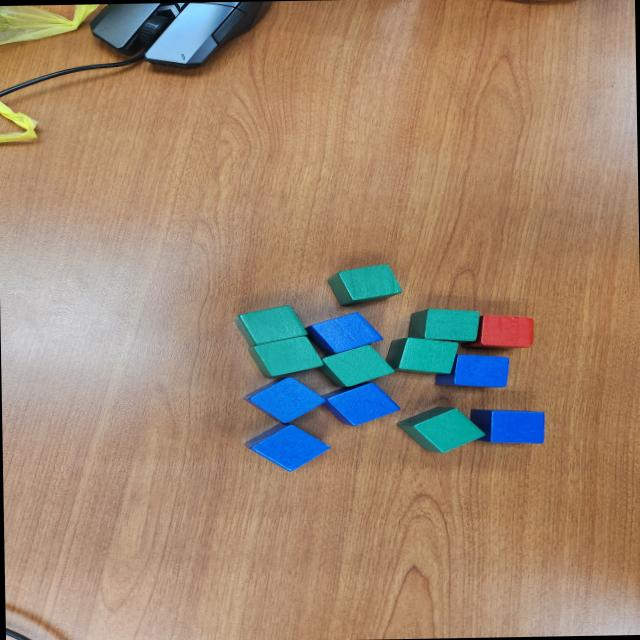blue: (244, 421, 331, 472), (242, 376, 328, 424), (319, 381, 402, 427), (304, 310, 384, 356), (469, 408, 545, 446), (433, 353, 510, 389)
green: (396, 404, 487, 454), (316, 343, 396, 388), (246, 336, 325, 378), (232, 304, 308, 347), (326, 263, 402, 306), (384, 336, 460, 375), (406, 307, 480, 344)
red: (458, 314, 534, 351)
